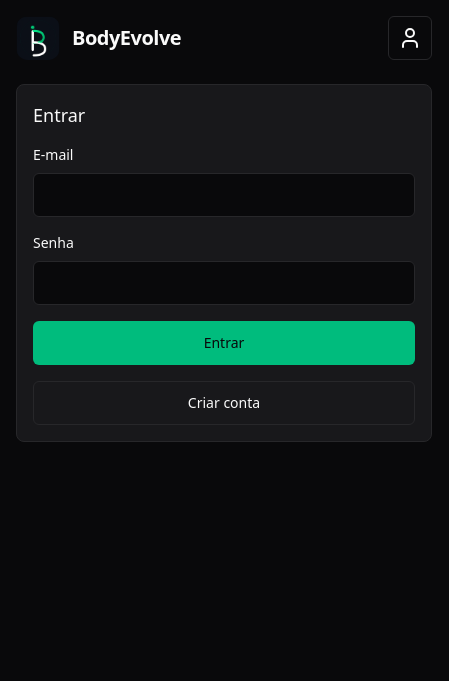
Test case: envia a sessão e mostra o gasto líquido que a API devolveu
Type "ana@example.com" into the field labelled "E-mail". click: (224, 195)
box: left=33, top=173, right=415, bottom=217
Type "senha-segura" into the password field labelled "Senha". click: (224, 283)
box: left=33, top=261, right=415, bottom=305
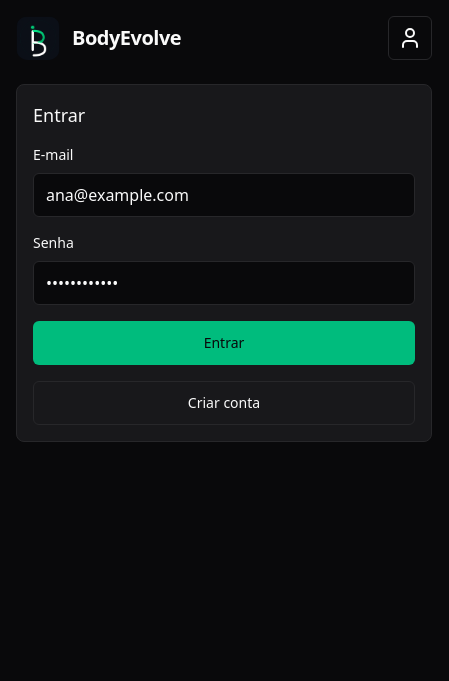
Submit the form "Entrar", box left=33, top=101, right=415, bottom=425
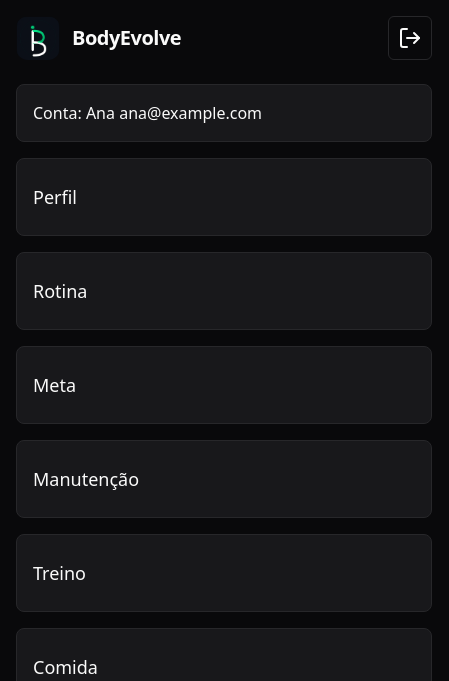
Click the link "Treino". click: (60, 573)
box: left=33, top=561, right=86, bottom=585
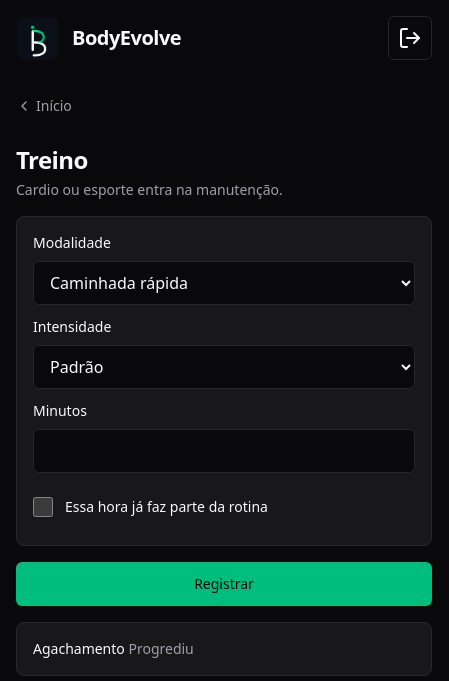
Check: the text "Progrediu" is shown, box left=125, top=639, right=194, bottom=658
Check: the text "Agachamento" is shown, box left=33, top=639, right=125, bottom=658
Select "Muito rápida" in the dropdown labelled "Intensidade". click: (224, 367)
box: left=33, top=345, right=415, bottom=389
Type "45" into the field labelled "Minutos". click: (224, 451)
box: left=33, top=429, right=415, bottom=473
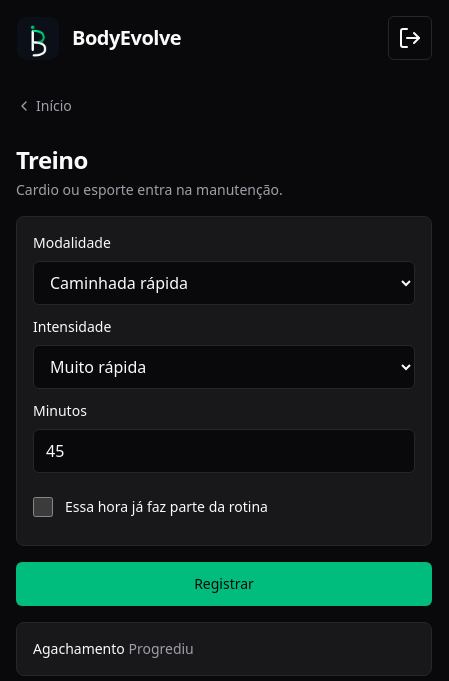
Click the checkbox labelled "Essa hora já faz parte da rotina". click: (43, 507)
box: left=33, top=497, right=53, bottom=517
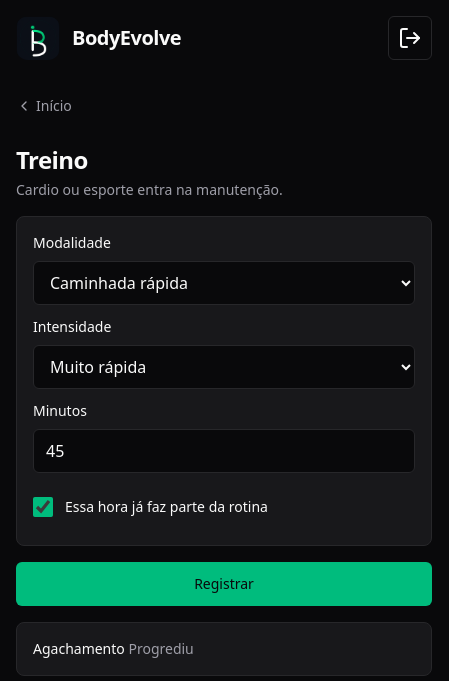
Submit the form named "Treino", box left=16, top=216, right=432, bottom=606
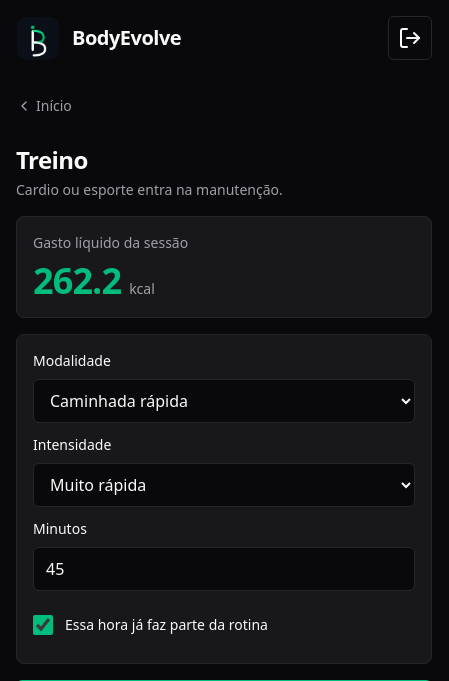
Check: the text "262.2" is shown, box left=33, top=261, right=121, bottom=301
